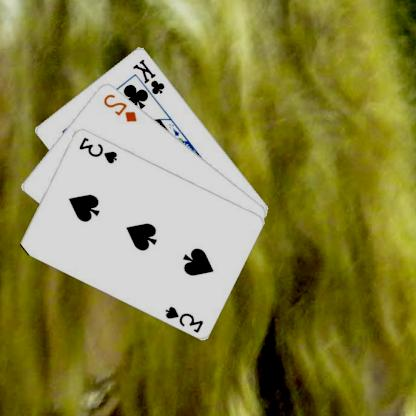2D: (103, 91, 140, 123)
3S: (78, 134, 120, 165), (165, 303, 206, 334)
KC: (132, 55, 168, 104)
